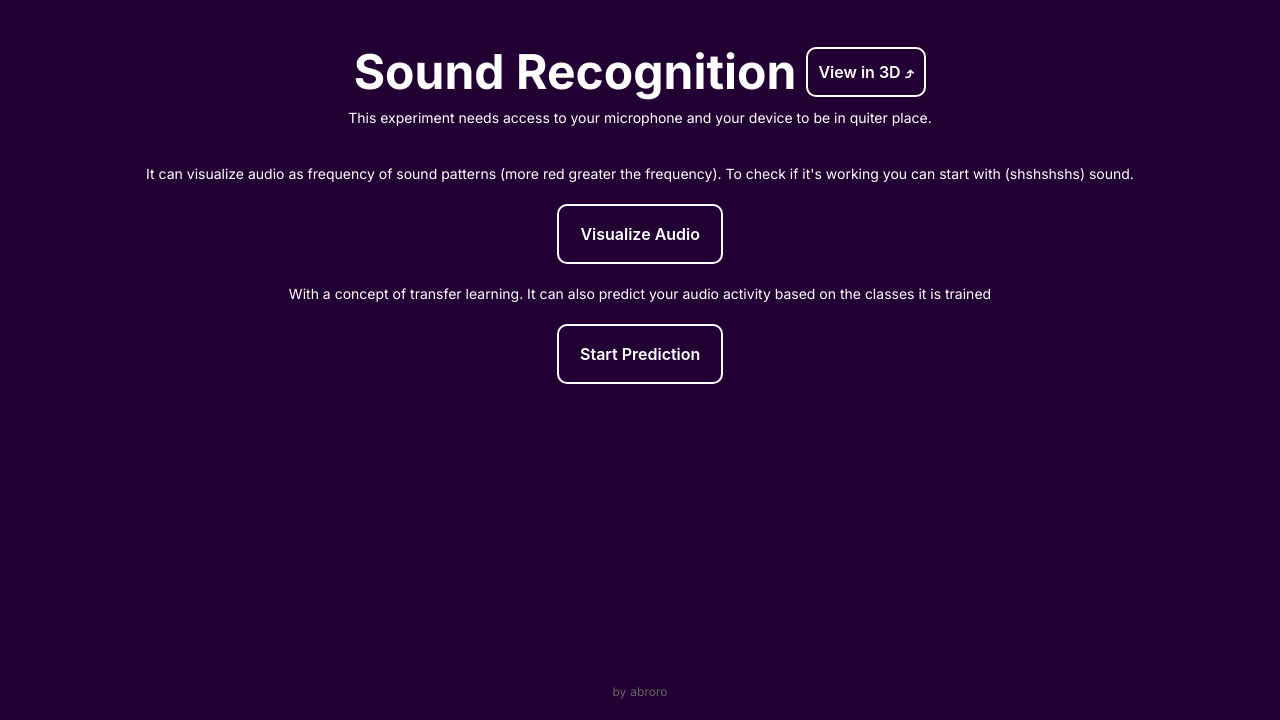
it: Spectograph content check: › correctly displays the toggle texts on the button
This screenshot has width=1280, height=720.
Click the button with test id "spectogram-toggle-button": [640, 234] box x1=557 y1=204 x2=723 y2=264
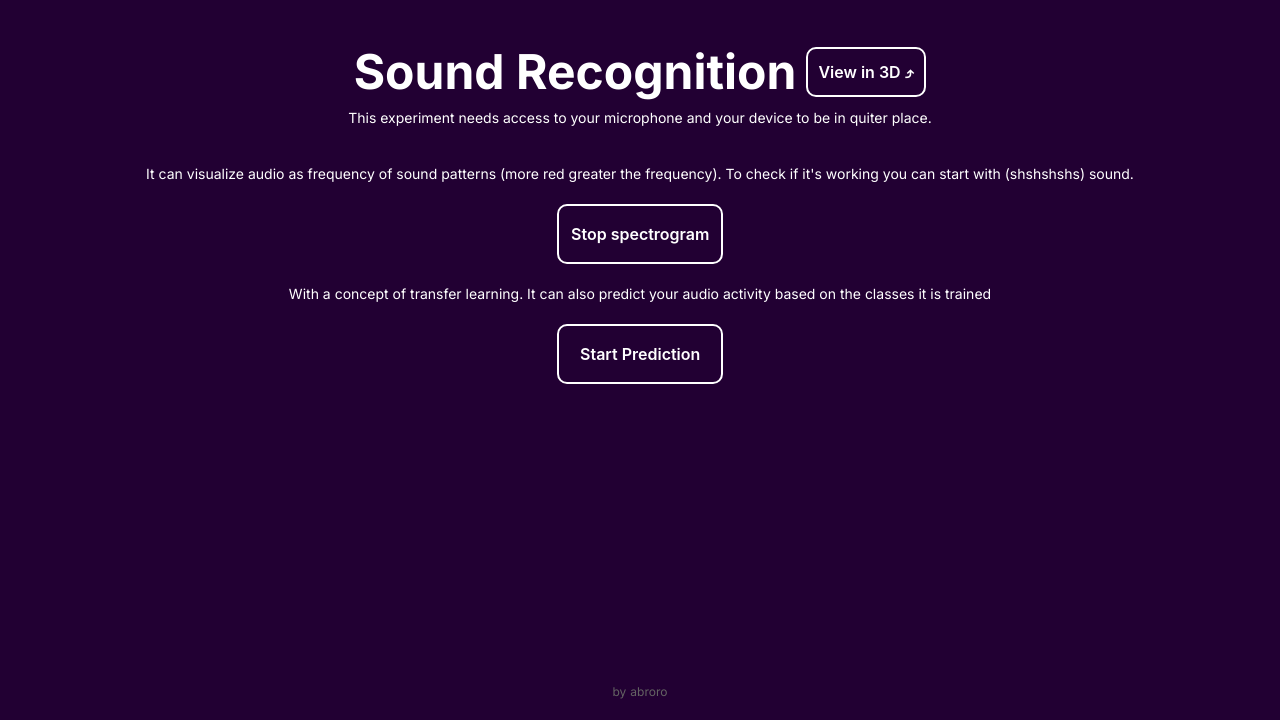
Expected: the button "Stop spectrogram" is shown, x1=557 y1=204 x2=723 y2=264
